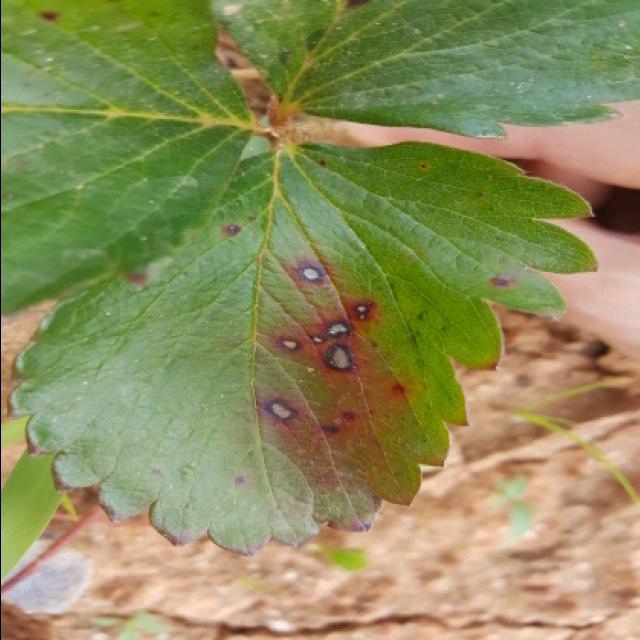Leaf Spot: (4, 138, 597, 557), (2, 0, 262, 324)
